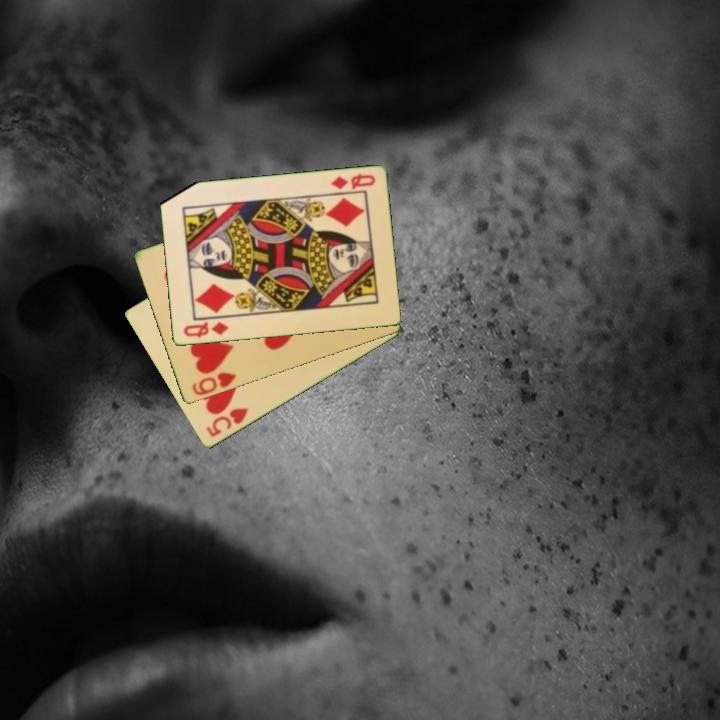5h: (202, 405, 251, 440)
6h: (188, 369, 239, 399)
Qd: (180, 318, 231, 341), (327, 170, 378, 193)
